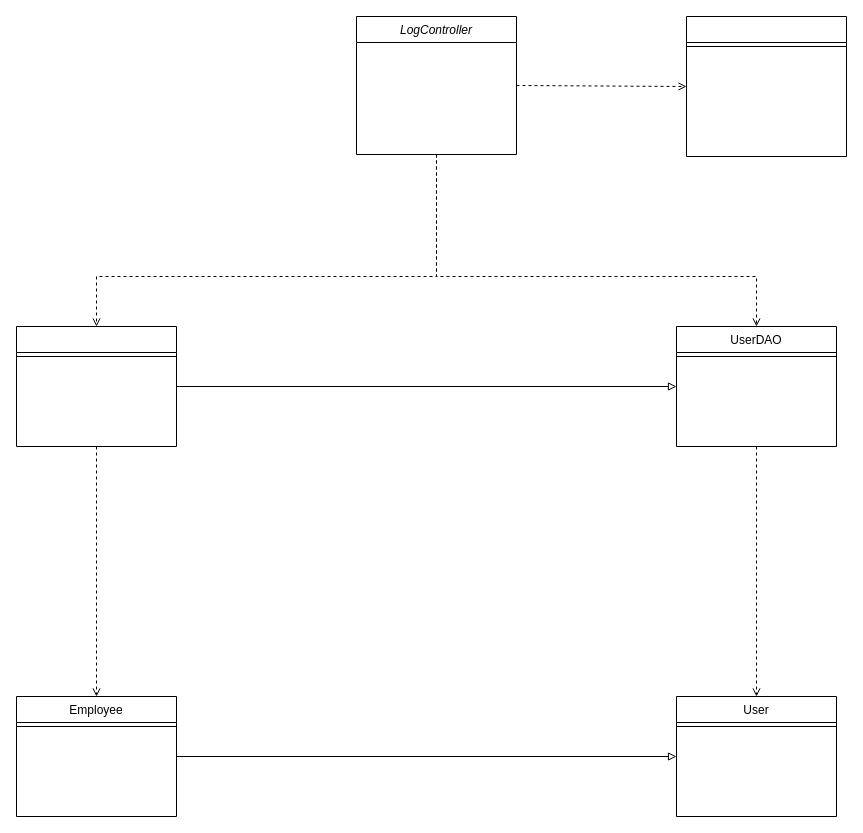
Some shapes in this 863 by 833 pixel diagram are drawn without their labels. The shapes that lost their labels are listed below. From the top down, each one's centre as x and y in pixels, then its label:
At (766,86): "Generator".
At (96,386): "EmployeeDAO".
